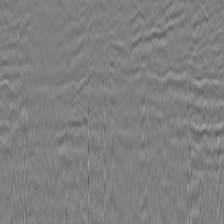cavities: (20, 4, 197, 179)
